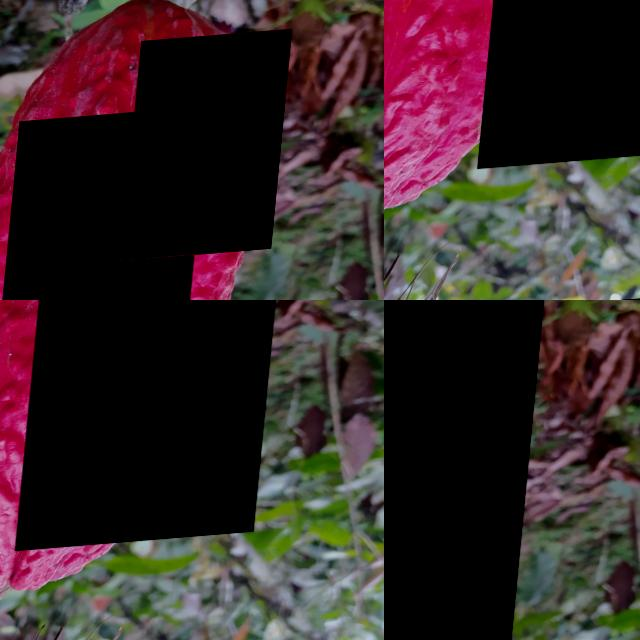Fitoftora: (3, 111, 212, 300)
Monilia: (487, 0, 640, 174)
Sana: (25, 300, 289, 554), (384, 300, 547, 640), (127, 36, 295, 265)
